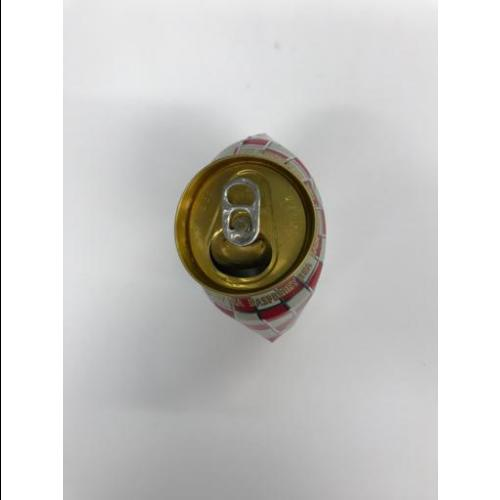metal: (174, 132, 327, 346)
